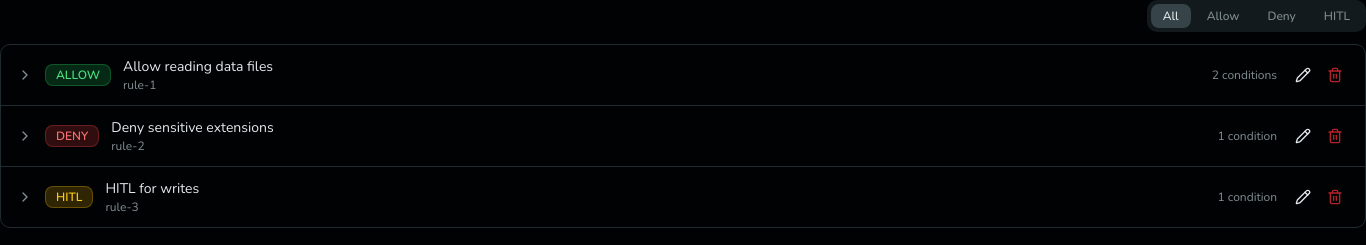
Test: PolicyRulesList › filter tabs › clicking "Allow" tab filters to allow rules only
Click the tab "Allow": [1223, 16] box [1195, 4, 1251, 28]
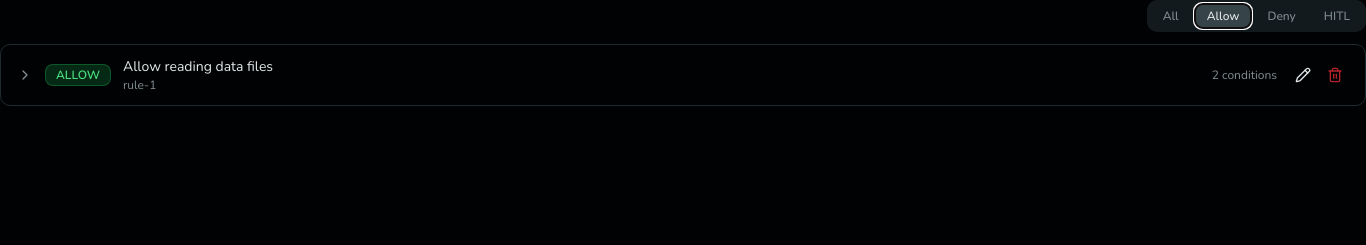
Expected: the text "Allow reading data files" is shown, [123, 57, 273, 76]
Expected: the button "Deny sensitive extensions" is gone
Expected: the button "HITL for writes" is gone
